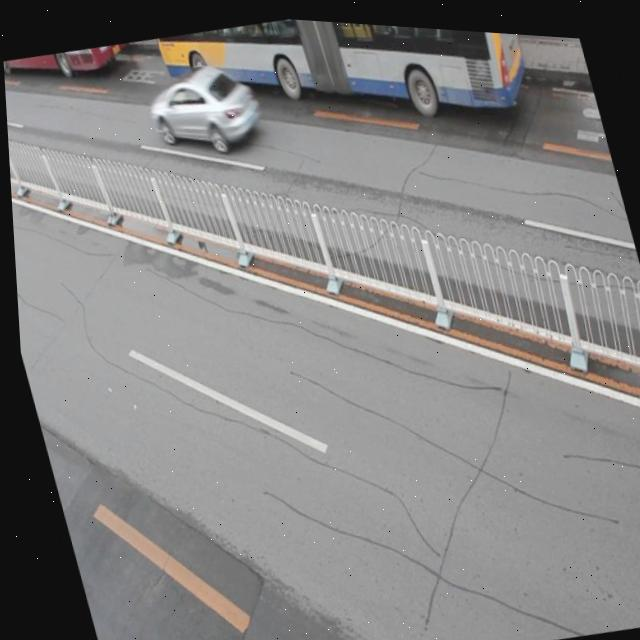car: (141, 51, 267, 163)
van: (155, 8, 541, 170), (2, 34, 136, 94)
